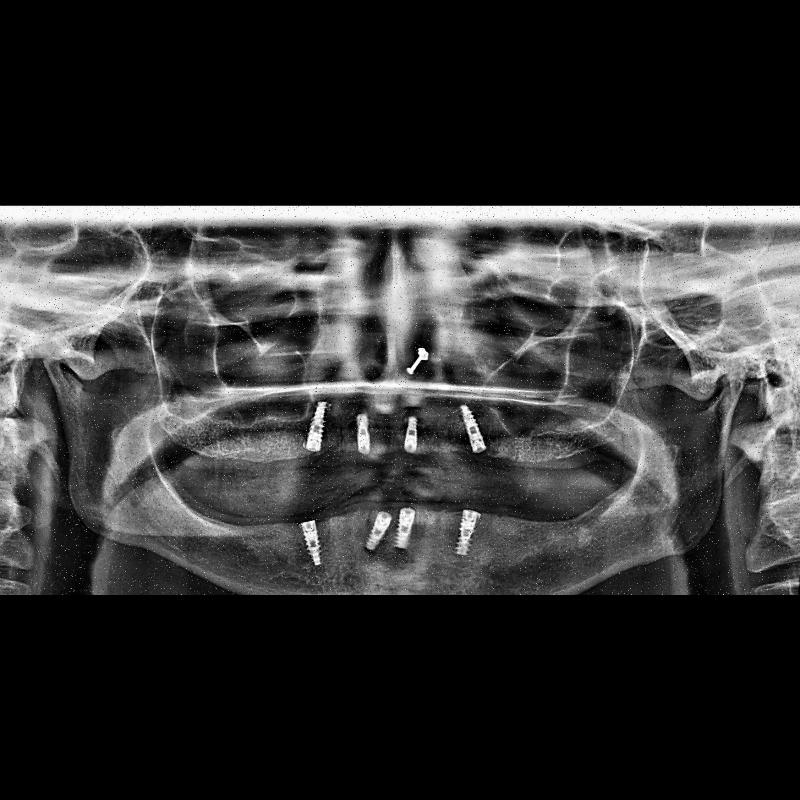NORIS: (300, 400, 336, 453), (450, 508, 482, 558), (459, 400, 488, 454), (298, 517, 326, 567), (364, 510, 392, 554), (393, 506, 416, 552), (400, 415, 426, 455)
